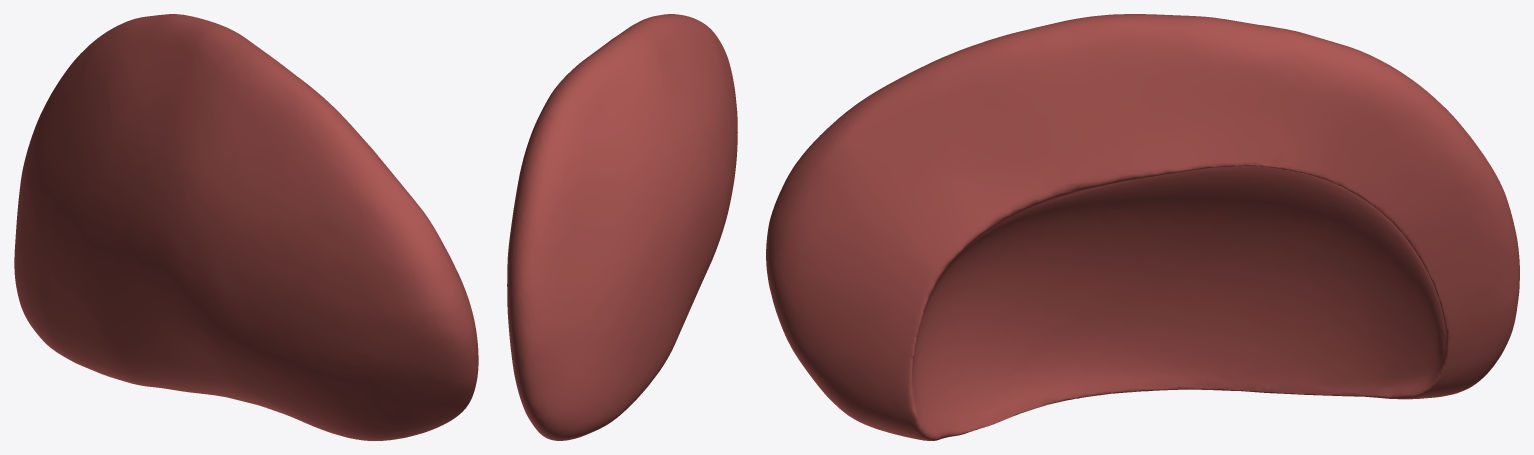
Rendered from FMA72828.glb.
3 views of the same model, side by side, from view 1: azimuth 30°, elevation 25°; view 2: azimuth 150°, elevation 25°; view 3: azimuth 270°, elevation 25° (orthographic). The views are drawn at different scales.
Visible parts, largest first — view 1: FMA72828; view 2: FMA72828; view 3: FMA72828.
Boxes of the visible parts, x1,y1,x2,y2 form: FMA72828: (14, 14, 478, 440); FMA72828: (507, 14, 737, 440); FMA72828: (766, 14, 1519, 440).
Bounding box in the file's own units: 0.0173 × 0.0247 × 0.0404.
